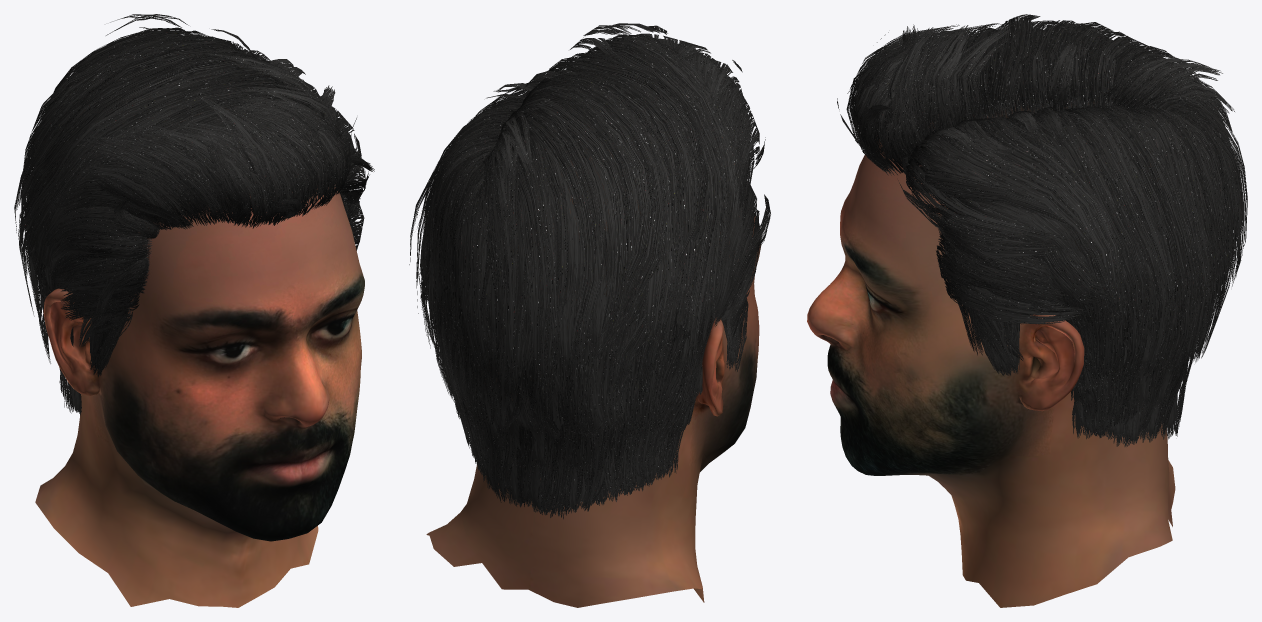
The picture shows the model from 3 angles, left to right: view 1: azimuth 30°, elevation 25°; view 2: azimuth 150°, elevation 25°; view 3: azimuth 270°, elevation 25°; orthographic projection.
Parts seen in each view (by area): view 1: avaturn_body, avaturn_hair_1, avaturn_hair_0; view 2: avaturn_hair_1, avaturn_body, avaturn_hair_0; view 3: avaturn_hair_1, avaturn_body, avaturn_hair_0.
Part boxes in pixels (x1,y1,x2,y2): avaturn_body: [35, 75, 364, 607]; avaturn_hair_1: [14, 14, 374, 415]; avaturn_hair_0: [25, 33, 354, 320]; avaturn_hair_1: [409, 23, 770, 519]; avaturn_body: [426, 102, 761, 607]; avaturn_hair_0: [419, 37, 754, 441]; avaturn_hair_1: [837, 14, 1247, 446]; avaturn_body: [807, 62, 1186, 607]; avaturn_hair_0: [854, 27, 1242, 362].
Size of the model in its own units: 0.2027 by 0.3484 by 0.254.
3 materials, 3 textured.
